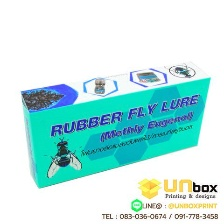insecticide: (17, 58, 213, 191)
